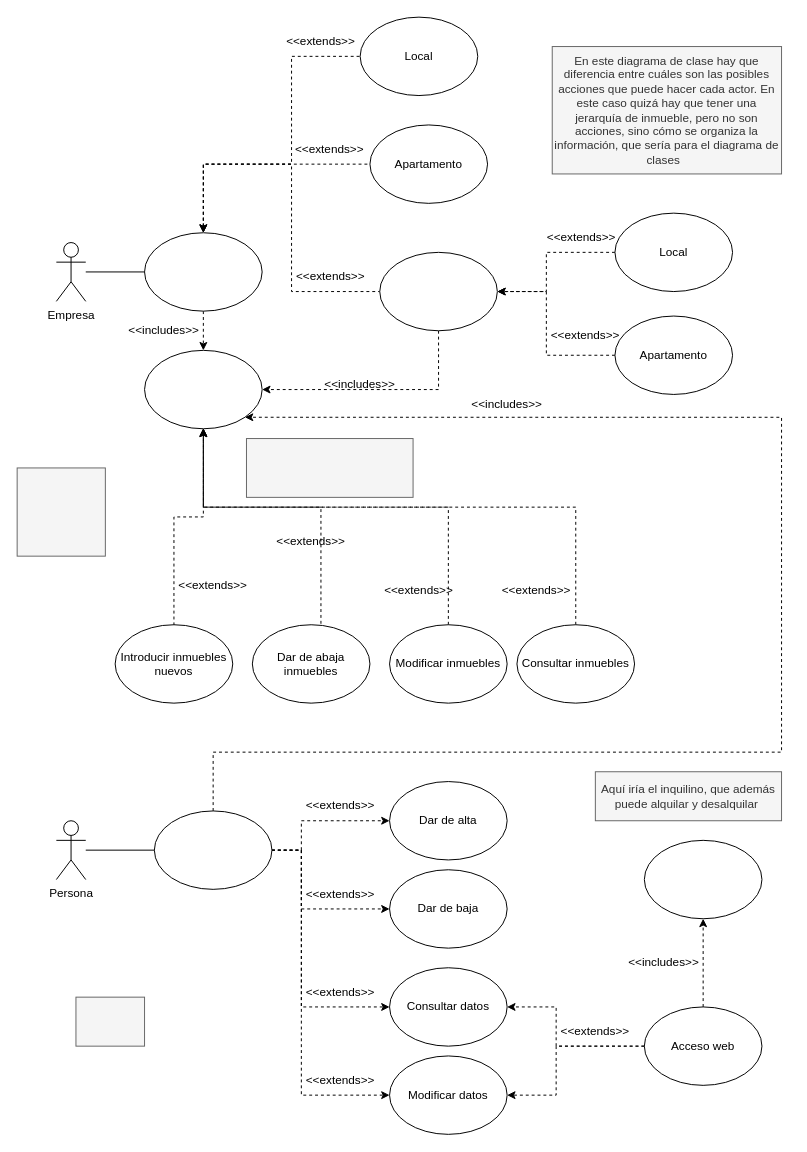
This 807x1152 diagram has some shape labels left out. Here are the shapes that lost their labels. From the top down, the box of each, then its label:
(144, 232, 262, 311): Gestiona inmueble
(379, 251, 497, 331): Edificio
(144, 349, 262, 429): Usar aplicación
(245, 438, 413, 497): Puede gestionar inmueble y dar de alta y baja al inquilino
(16, 467, 105, 556): Más que persona sería inquilino y gestor de la inmobiliaria
(153, 810, 272, 889): Gestionar usuarios
(643, 839, 762, 919): Identificación
(75, 996, 145, 1046): Aquí iría el gestor (no iría nada)
